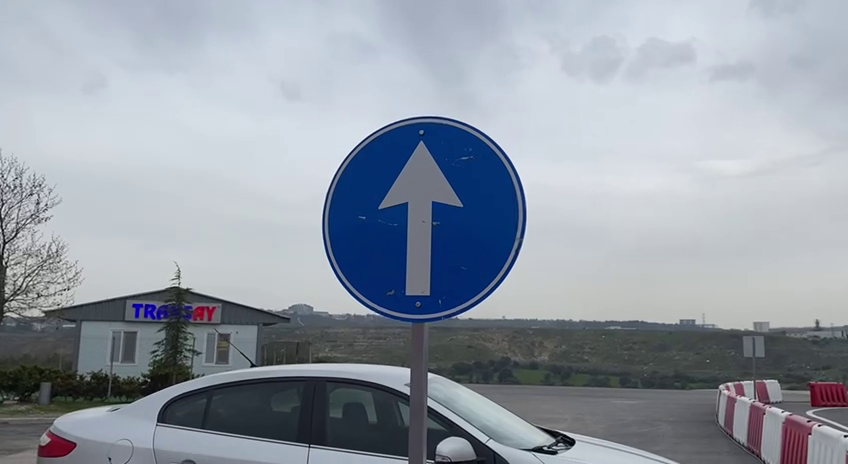forward: (315, 110, 531, 327)
